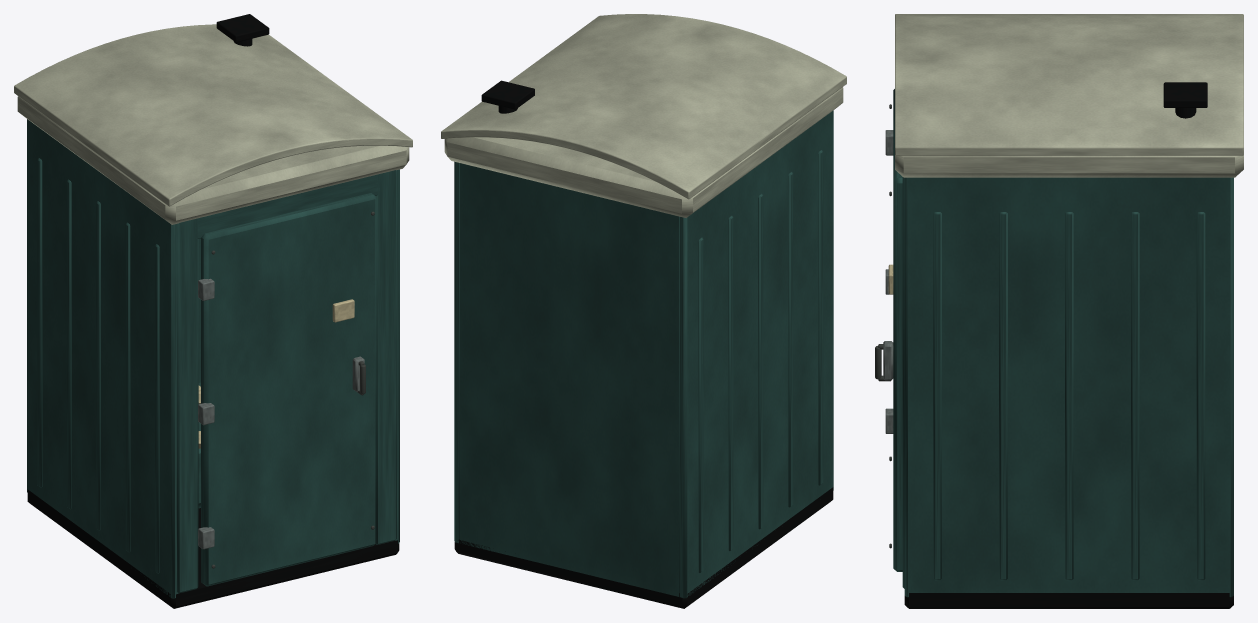
Rendered from level_camp_portable_toilet_closed_refined.glb.
The picture shows the model from 3 angles, left to right: view 1: azimuth 30°, elevation 25°; view 2: azimuth 150°, elevation 25°; view 3: azimuth 270°, elevation 25°; orthographic projection. The views are drawn at different scales.
Visible parts, largest first — view 1: level_camp_portable_toilet_closed_refined; view 2: level_camp_portable_toilet_closed_refined; view 3: level_camp_portable_toilet_closed_refined.
Part boxes in pixels (x1,y1,x2,y2): level_camp_portable_toilet_closed_refined: (14, 14, 412, 608); level_camp_portable_toilet_closed_refined: (441, 14, 846, 608); level_camp_portable_toilet_closed_refined: (875, 14, 1243, 608).
Bounding box in the file's own units: 1.44 × 2.52 × 1.68.
Materials: 7 (7 with a texture image).
